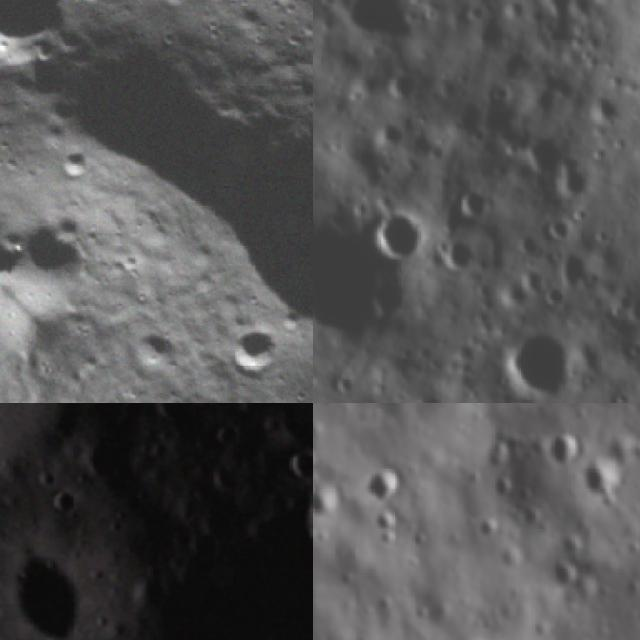crater: (0, 181, 118, 332), (313, 216, 418, 347), (209, 303, 305, 399), (110, 309, 195, 393), (494, 324, 574, 403), (344, 0, 410, 51), (369, 206, 425, 261), (79, 434, 133, 489), (517, 128, 569, 177), (577, 456, 622, 510), (185, 514, 236, 561), (49, 141, 96, 188), (436, 235, 484, 281), (507, 0, 590, 26), (211, 415, 258, 460), (361, 462, 404, 507), (37, 484, 84, 525), (452, 180, 498, 220), (292, 477, 313, 562), (553, 162, 593, 206), (151, 403, 204, 435), (544, 430, 582, 472), (313, 472, 343, 525), (583, 93, 623, 132), (542, 558, 584, 594), (556, 250, 595, 287), (368, 504, 406, 541), (372, 121, 410, 156), (388, 67, 418, 107), (282, 448, 313, 483), (63, 0, 118, 17), (547, 213, 581, 240), (37, 461, 61, 497), (517, 267, 545, 293), (331, 370, 355, 392)
